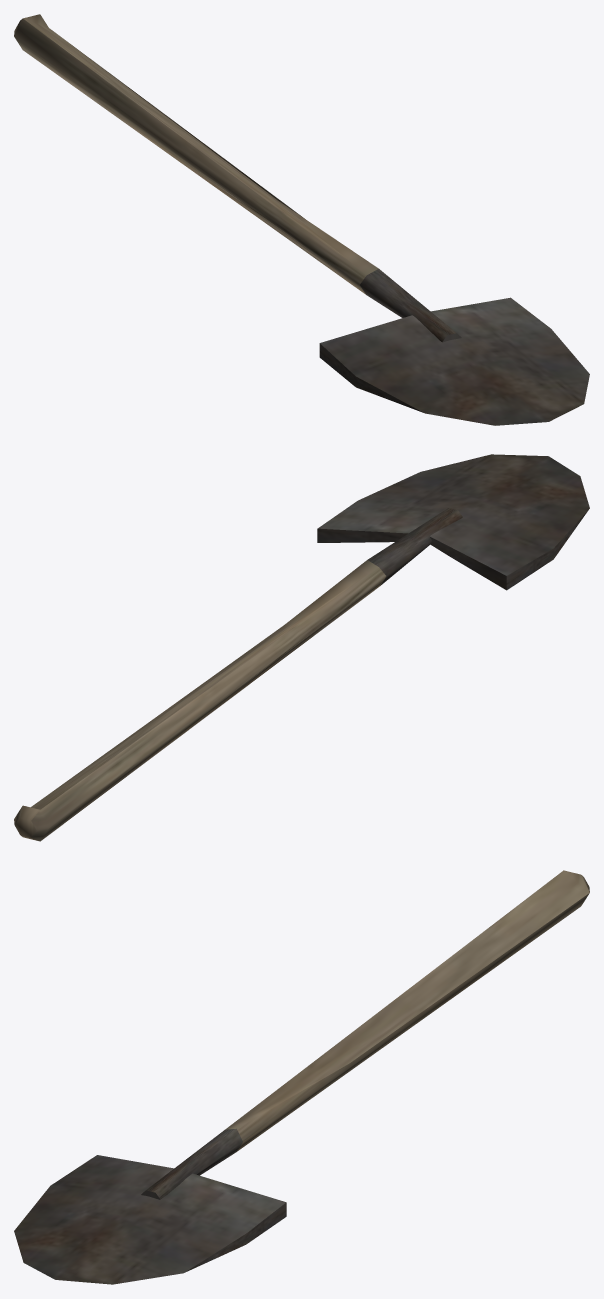
File: shovel_high.fbx
The picture shows the model from 3 angles, top to bottom: view 1: azimuth 30°, elevation 25°; view 2: azimuth 150°, elevation 25°; view 3: azimuth 330°, elevation 25°; orthographic projection.
Parts seen in each view (by area): view 1: shovel_mesh2; view 2: shovel_mesh2; view 3: shovel_mesh2.
Part boxes in pixels (x1,y1,x2,y2): shovel_mesh2: (14,14,589,425); shovel_mesh2: (14,454,589,841); shovel_mesh2: (14,870,589,1284).
Bounding box in the file's own units: 92.53 × 18.01 × 429.
Materials: 2 (2 with a texture image).
